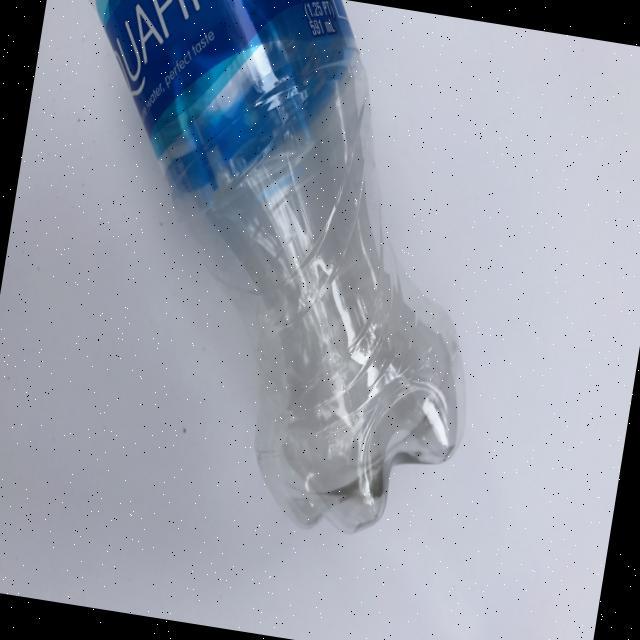plastic: (0, 0, 528, 552)
